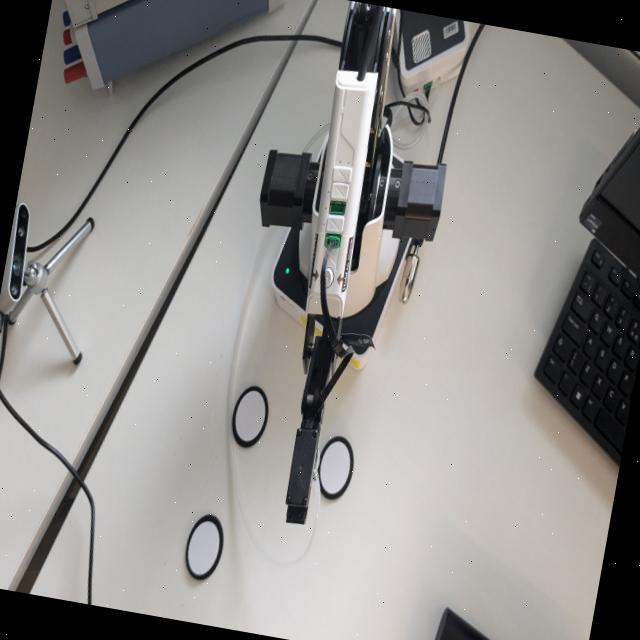Robot-end-effector-HF8z: (276, 406, 330, 530)
